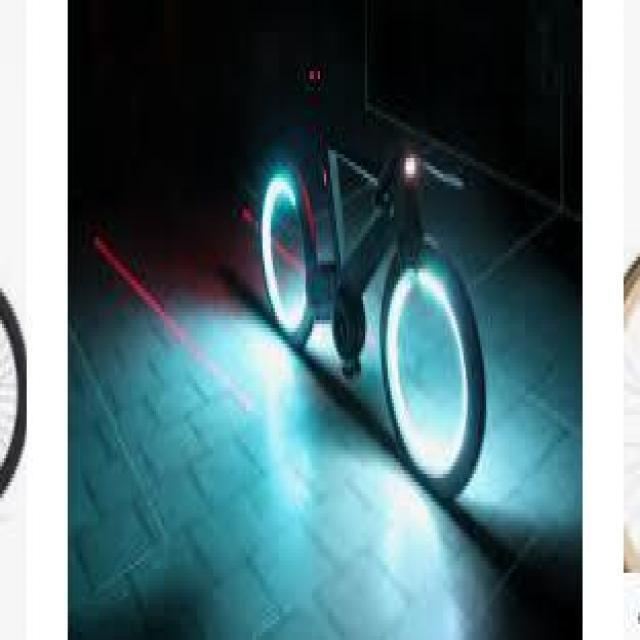bicycle: (258, 139, 496, 495), (1, 289, 27, 502)
